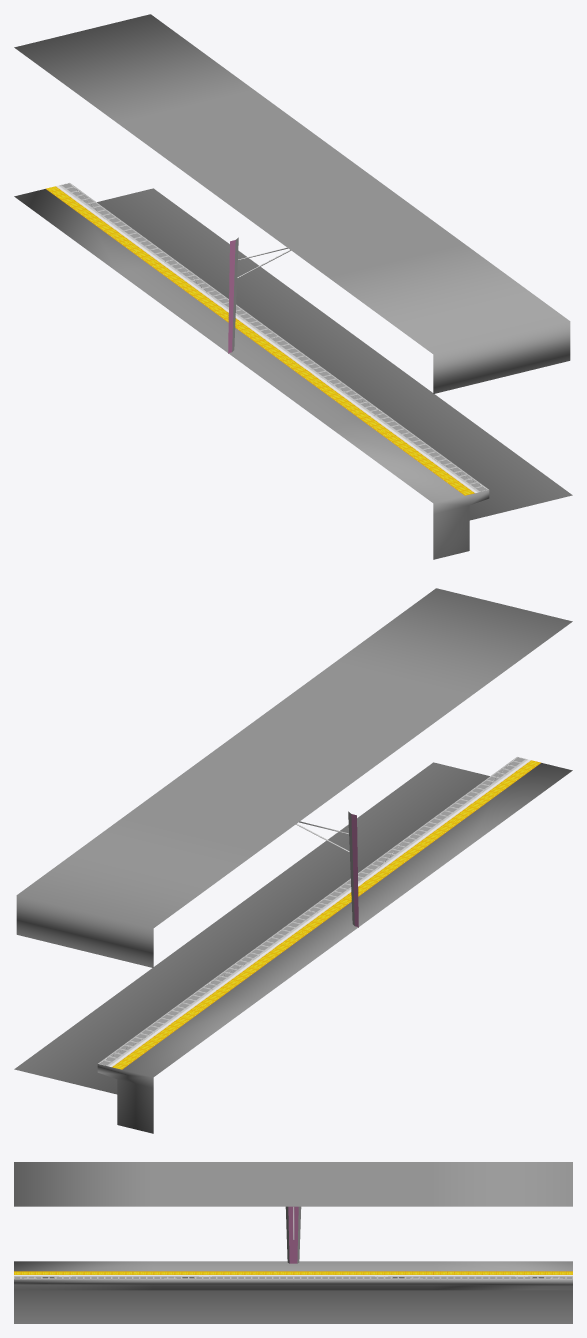
File: END_ST_LEFT.glb
3 views of the same model, one above another, from view 1: azimuth 30°, elevation 25°; view 2: azimuth 150°, elevation 25°; view 3: azimuth 270°, elevation 25° (orthographic). The views are drawn at different scales.
Visible parts, largest first — view 1: Model; view 2: Model; view 3: Model.
Part boxes in pixels (box(x1,y1,x2,y2)): Model: box(14, 14, 572, 559); Model: box(14, 588, 572, 1133); Model: box(14, 1162, 572, 1323).
Bounding box in the file's own units: 19.2 × 27 × 100.
Materials: 2 (1 with a texture image).
